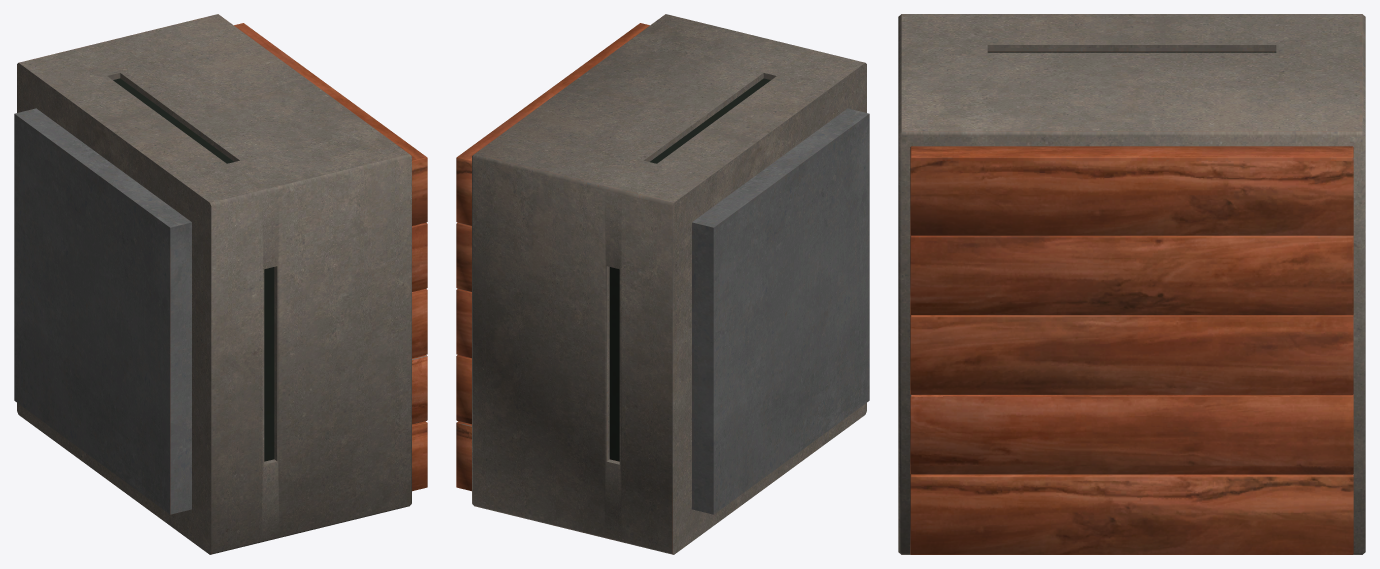
Rendered from cP_Bench21.dae.
3 renders of one model, left to right at view 1: azimuth 30°, elevation 25°; view 2: azimuth 150°, elevation 25°; view 3: azimuth 270°, elevation 25°, orthographic. The views are drawn at different scales.
Parts seen in each view (by area): view 1: cP_Bench21.001; view 2: cP_Bench21.001; view 3: cP_Bench21.001.
Part boxes in pixels (x1=…): cP_Bench21.001: x1=14, y1=14, x2=427, y2=554; cP_Bench21.001: x1=456, y1=14, x2=869, y2=554; cP_Bench21.001: x1=898, y1=14, x2=1365, y2=554.
Bounding box in the file's own units: 0.543 × 0.75 × 0.75.
